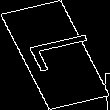L_E: (12, 32, 98, 78)
